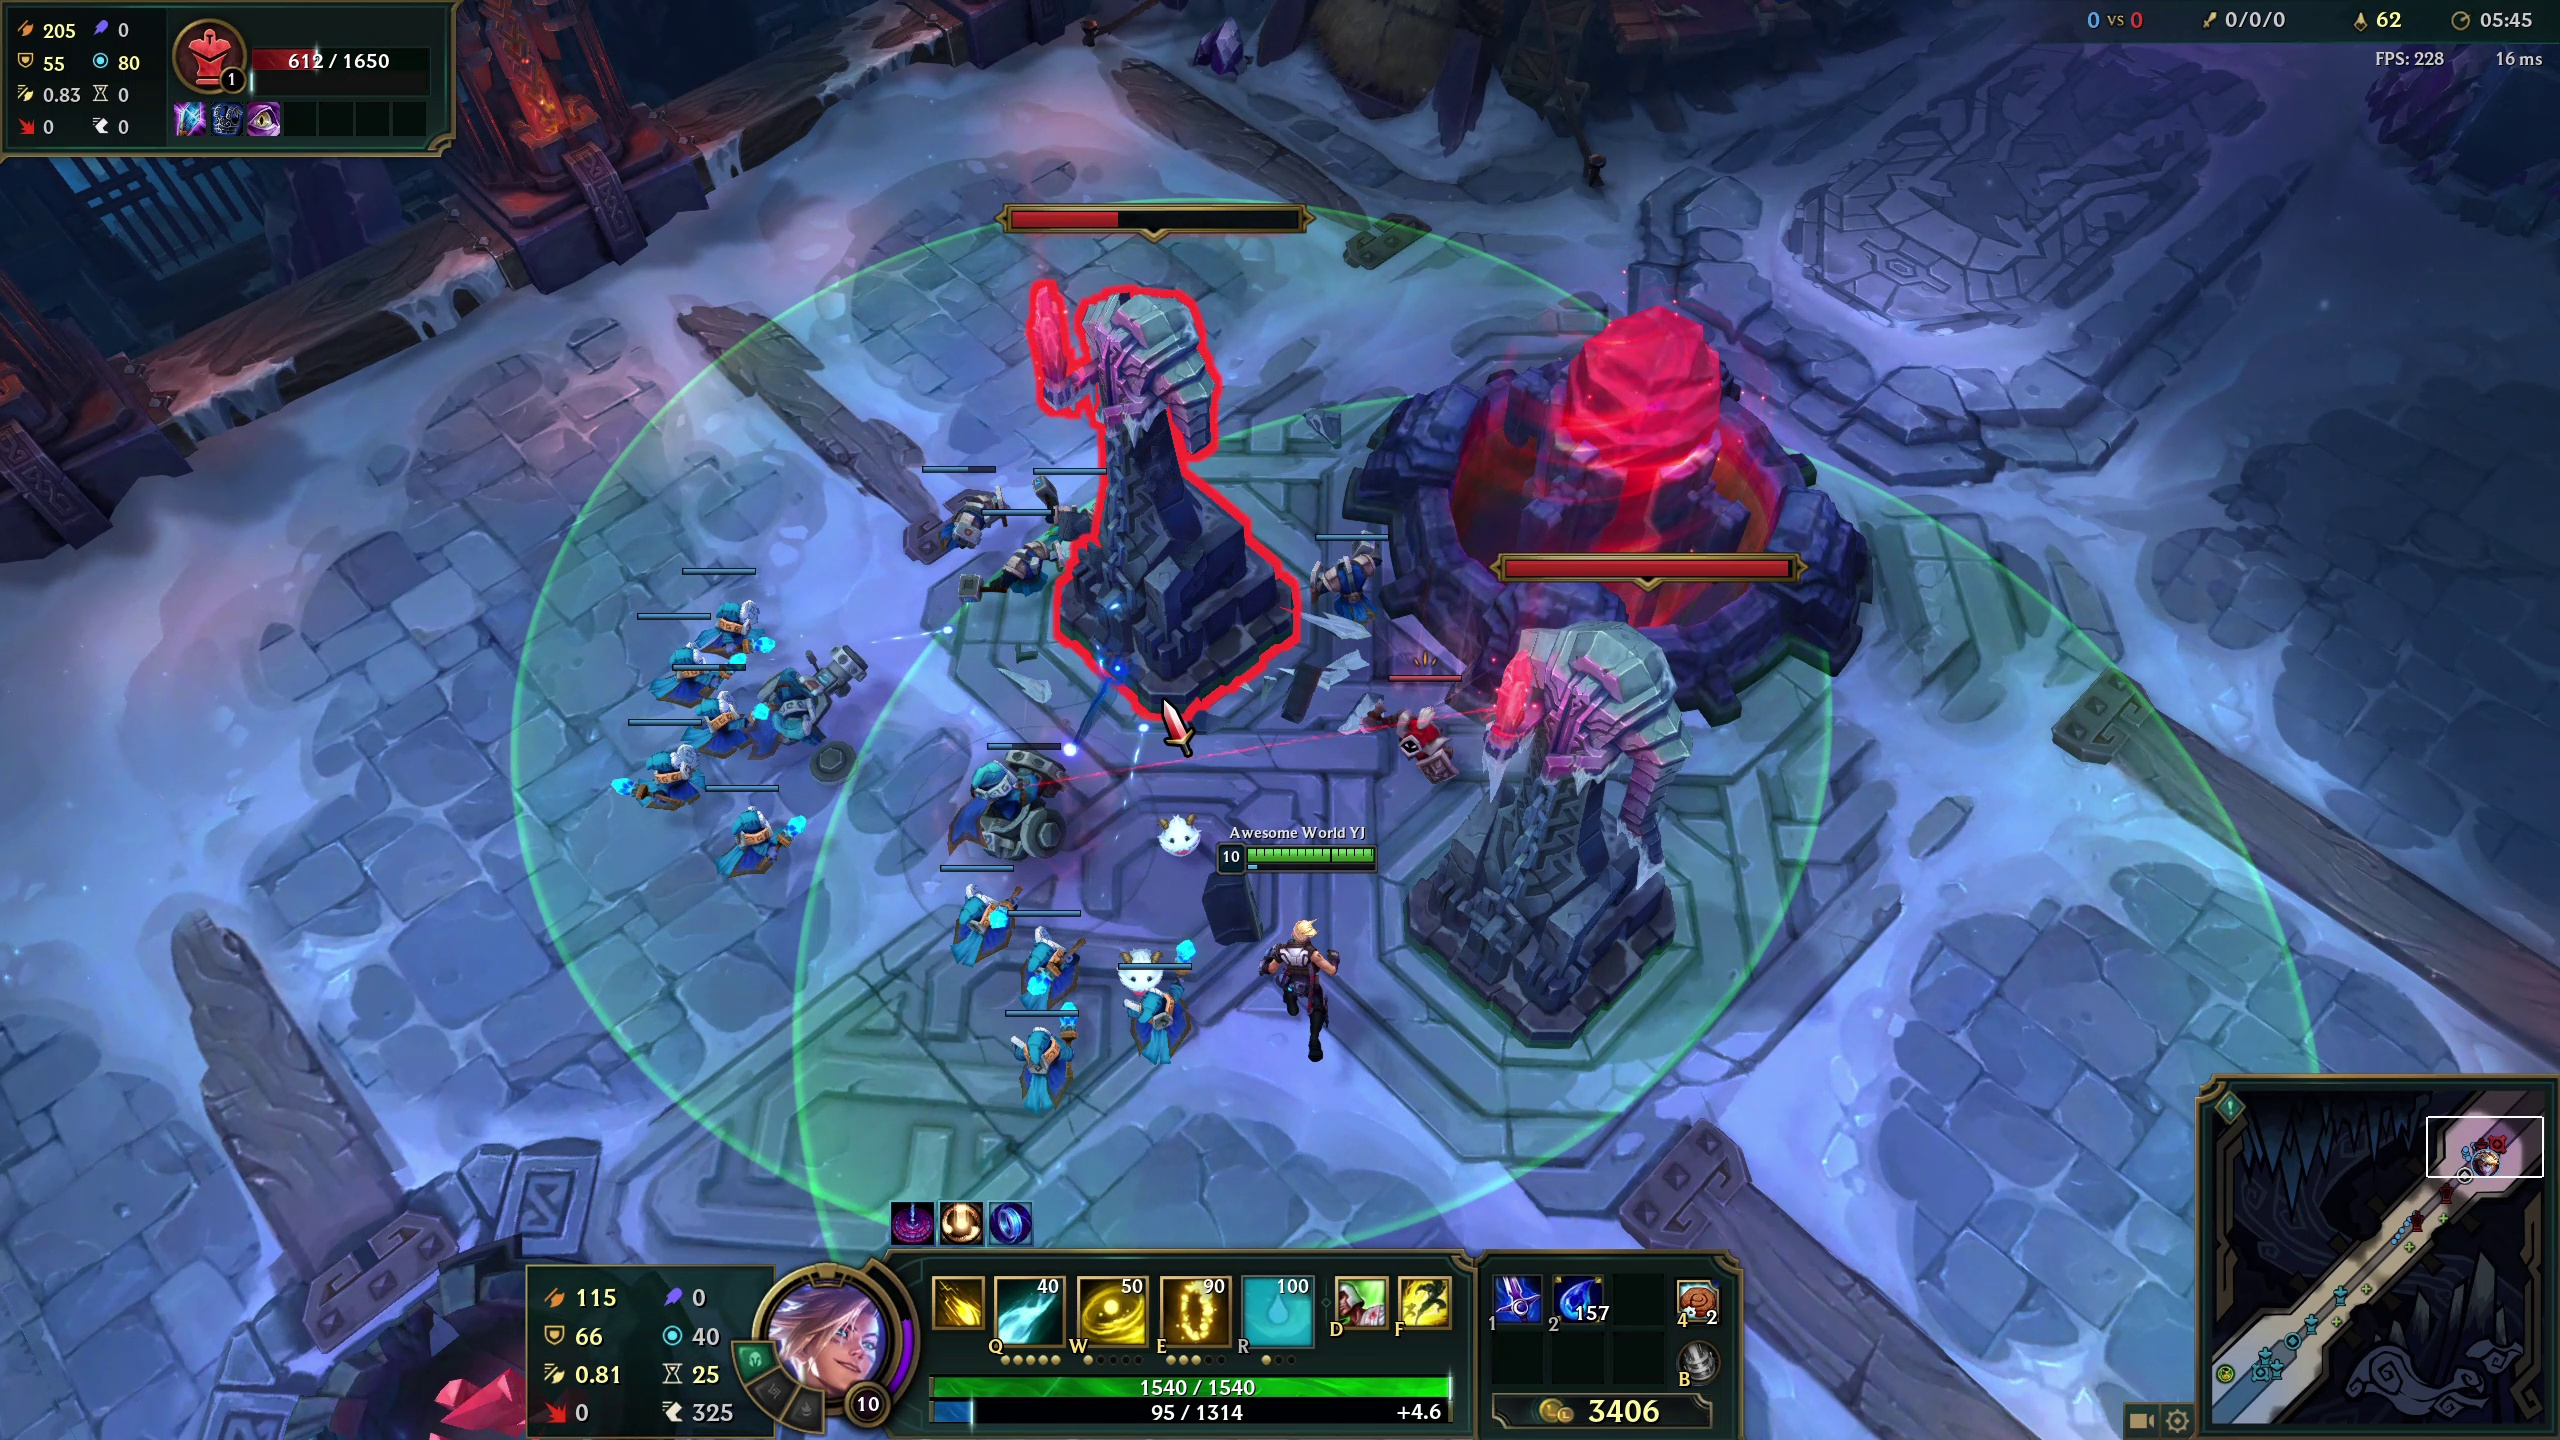EZ: (1229, 818, 1385, 1062)
EnemyMinion: (1380, 666, 1465, 777)
Inhibitor: (1444, 325, 1830, 624)
MyMinion: (971, 506, 1067, 585), (686, 573, 782, 652), (693, 782, 789, 862), (927, 870, 1023, 949), (1011, 459, 1108, 538), (645, 665, 744, 742), (920, 461, 1016, 538), (626, 605, 723, 682), (621, 719, 717, 796), (1000, 923, 1097, 1000), (1111, 978, 1208, 1055), (986, 1027, 1083, 1104), (1303, 538, 1400, 615)
MySuperMinnion: (962, 751, 1081, 858)
Turret: (1064, 304, 1306, 700), (1484, 636, 1656, 1029)
